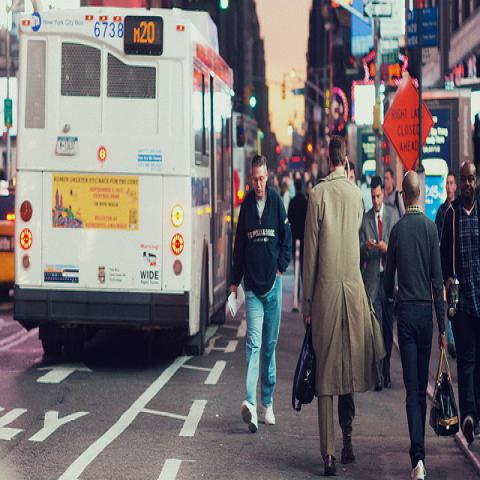bus: (14, 5, 234, 363), (233, 111, 264, 250)
truck: (13, 10, 236, 359)
